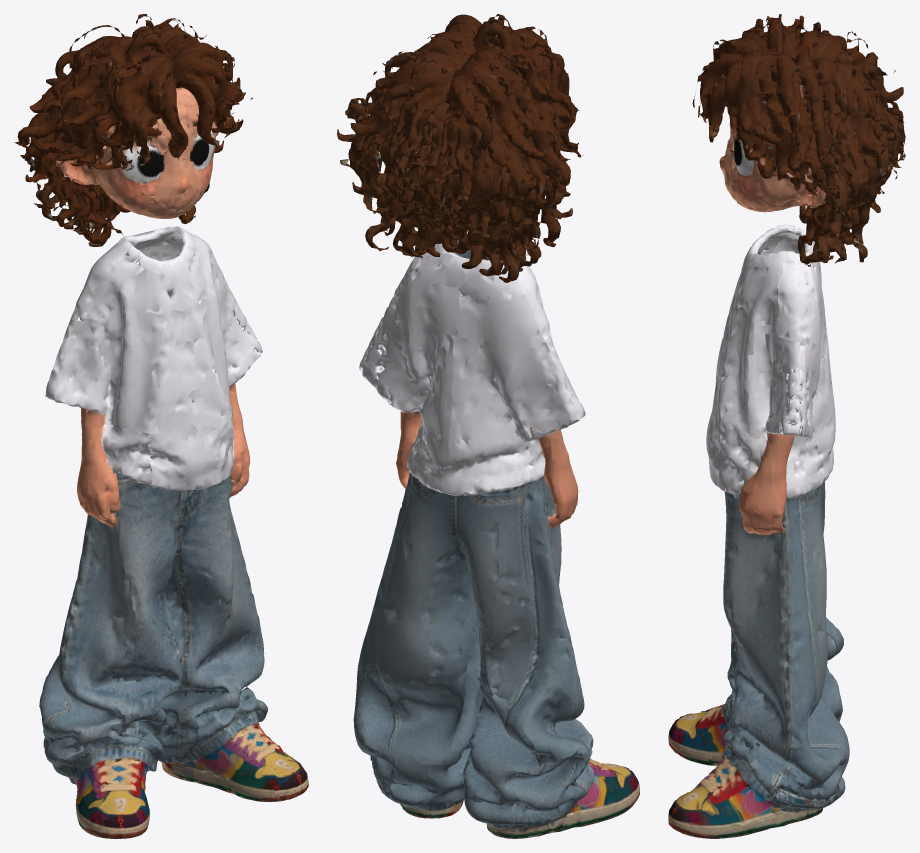
The model's file is avatar.glb.
The picture shows the model from 3 angles, left to right: view 1: azimuth 30°, elevation 25°; view 2: azimuth 150°, elevation 25°; view 3: azimuth 270°, elevation 25°; orthographic projection. The views are drawn at different scales.
Size of the model in its own units: 0.5839 by 1.9 by 0.5328.
1 material, 1 textured.
